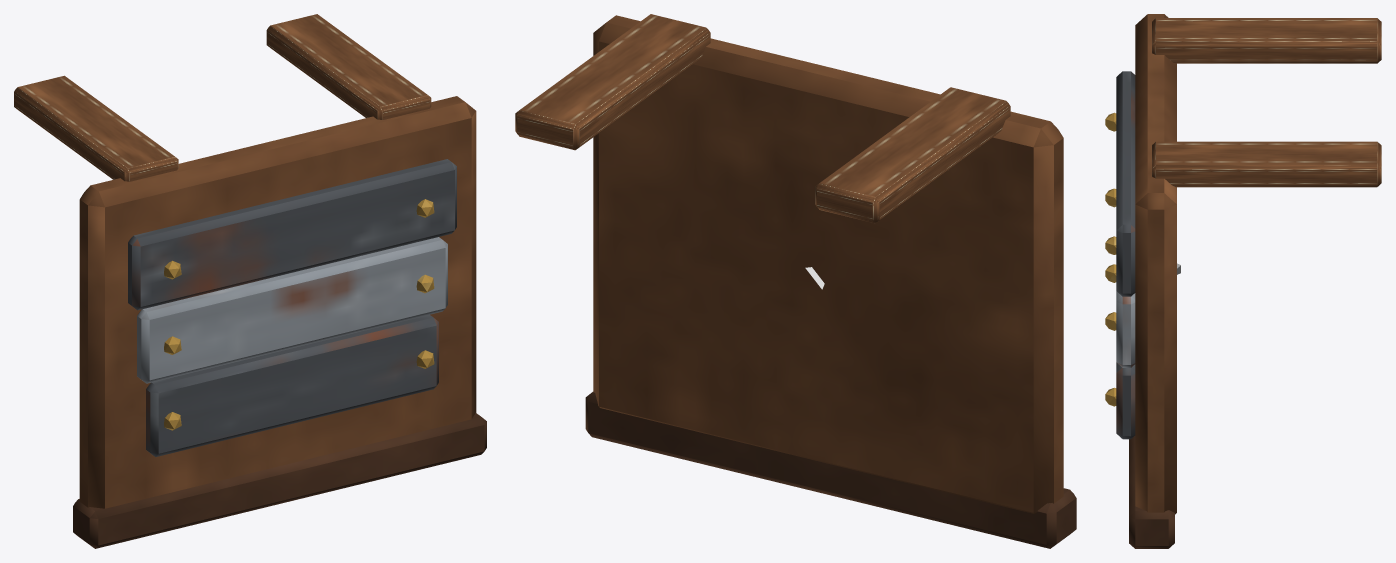
The model's file is ACC_Armor_Chest.fbx.
3 views of the same model, side by side, from view 1: azimuth 30°, elevation 25°; view 2: azimuth 150°, elevation 25°; view 3: azimuth 270°, elevation 25° (orthographic). The views are drawn at different scales.
Visible parts, largest first — view 1: ACC_Armor_Chest; view 2: ACC_Armor_Chest; view 3: ACC_Armor_Chest.
Part boxes in pixels (bbox=[...]): ACC_Armor_Chest: bbox=[14, 14, 486, 548]; ACC_Armor_Chest: bbox=[515, 14, 1076, 548]; ACC_Armor_Chest: bbox=[1105, 14, 1381, 548].
Bounding box in the file's own units: 2.2 × 1.92 × 1.32.
1 material, 1 textured.
